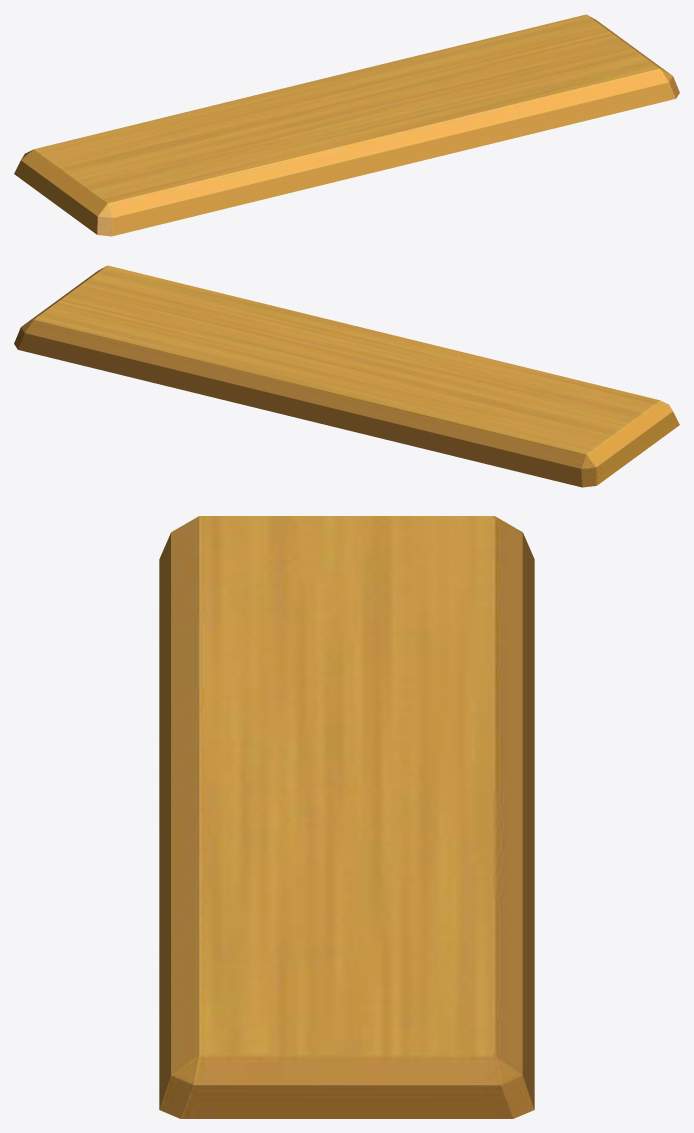
File: ZhaLan_DiBan2.FBX
3 renders of one model, top to bottom at view 1: azimuth 30°, elevation 25°; view 2: azimuth 150°, elevation 25°; view 3: azimuth 270°, elevation 25°, orthographic. The views are drawn at different scales.
Visible parts, largest first — view 1: ZhaLan_DiBan2; view 2: ZhaLan_DiBan2; view 3: ZhaLan_DiBan2.
Part boxes in pixels (x1,y1,x2,y2): ZhaLan_DiBan2: (14, 14, 679, 236); ZhaLan_DiBan2: (14, 265, 679, 487); ZhaLan_DiBan2: (159, 516, 534, 1118).
Size of the model in its own units: 282 by 11.3 by 78.52.
